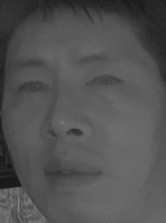eye: (85, 69, 122, 93), (14, 77, 51, 99)
mouth: (42, 153, 105, 194)
